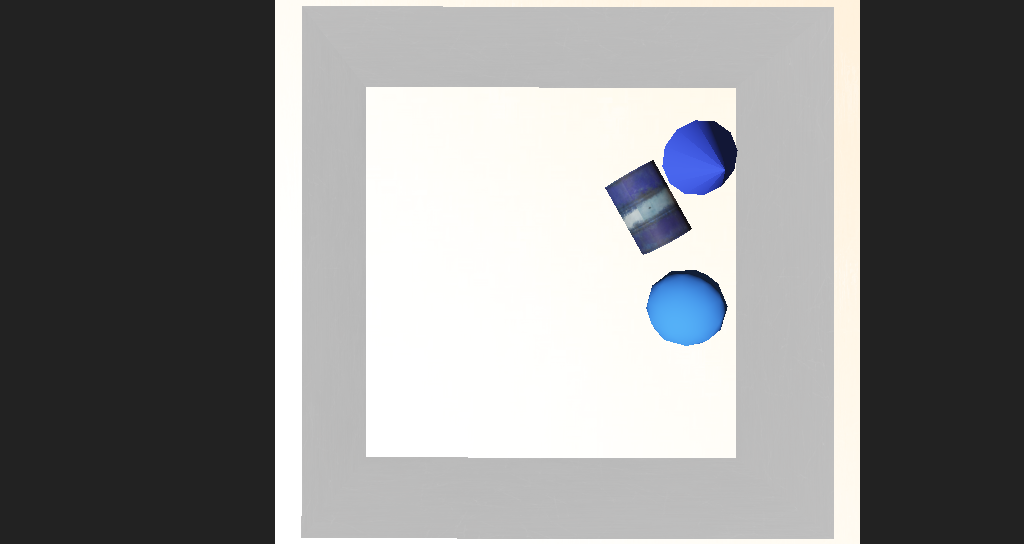cone: (549, 200, 623, 258)
cylinder: (596, 169, 684, 241)
sphere: (579, 270, 647, 313)
